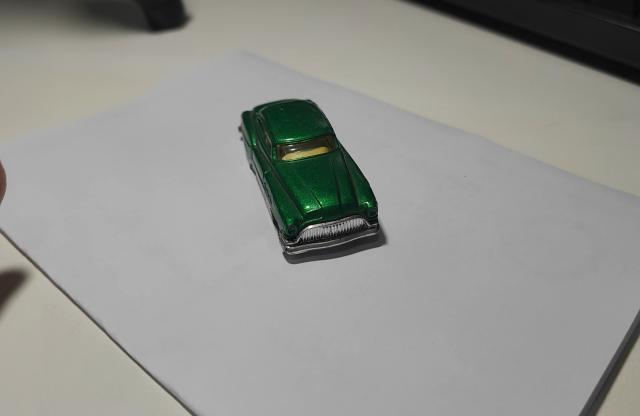06_MASERATI: (238, 99, 388, 258)
